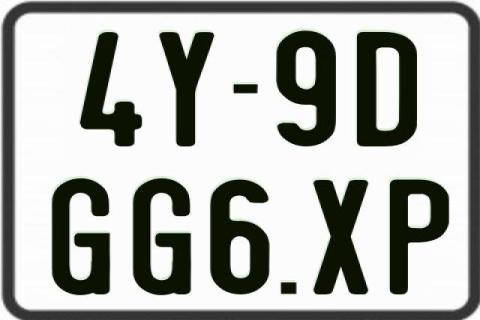0: (80, 32, 146, 150), (274, 31, 340, 147), (207, 178, 269, 294)
D: (356, 30, 420, 144)
G: (50, 176, 112, 298), (132, 179, 191, 299)
P: (390, 177, 451, 293)
X: (314, 179, 373, 295)
Y: (159, 32, 217, 148)
